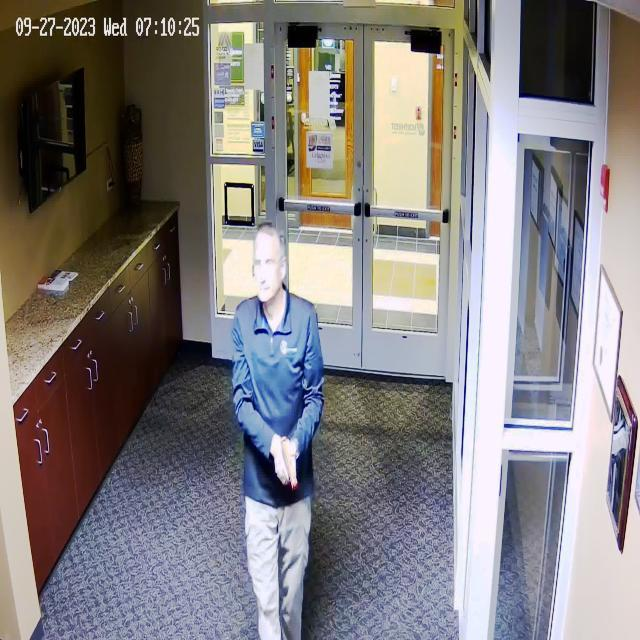Gun: (274, 428, 306, 494)
